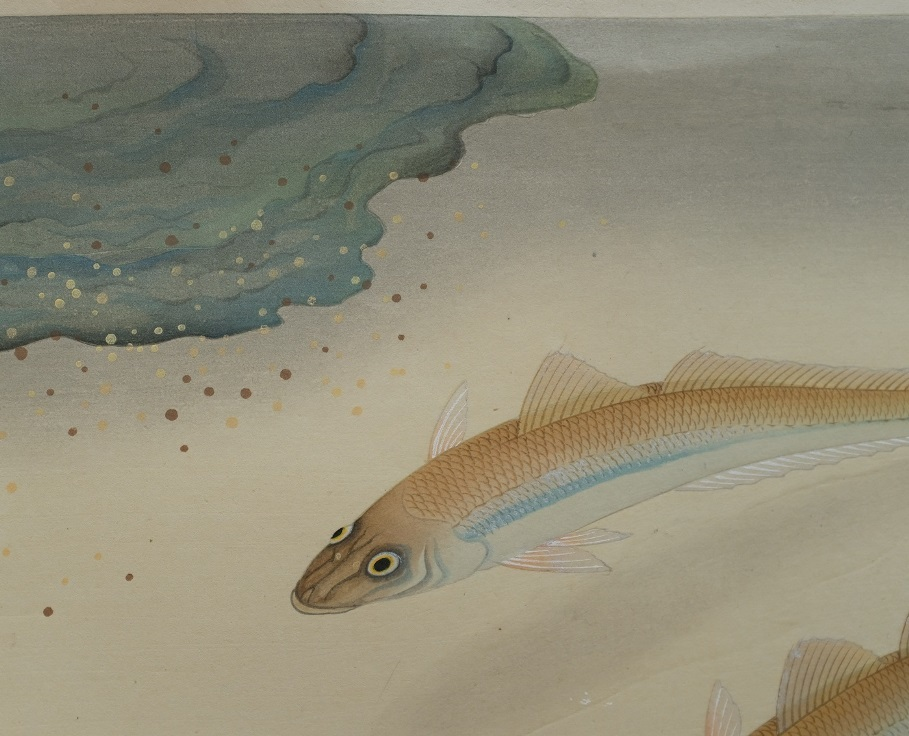kiss: (288, 340, 909, 629)
